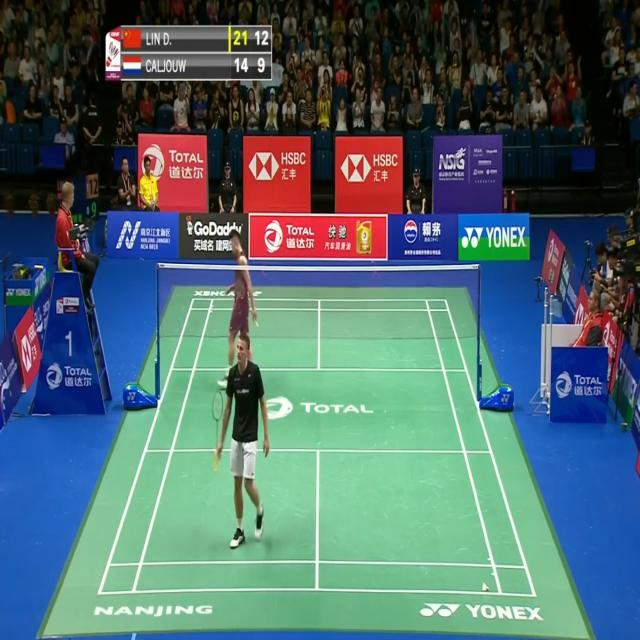Player1: (210, 332, 274, 548)
Player2: (218, 223, 259, 398)
